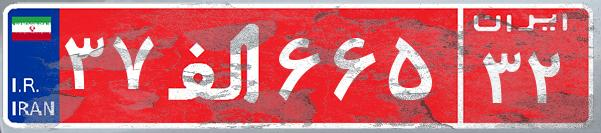2: (525, 38, 570, 115)
3: (57, 26, 110, 107), (475, 38, 525, 113)
5: (385, 28, 445, 110)
6: (273, 28, 330, 110), (330, 28, 385, 110)
7: (110, 28, 158, 105)
الف: (158, 15, 273, 115)
